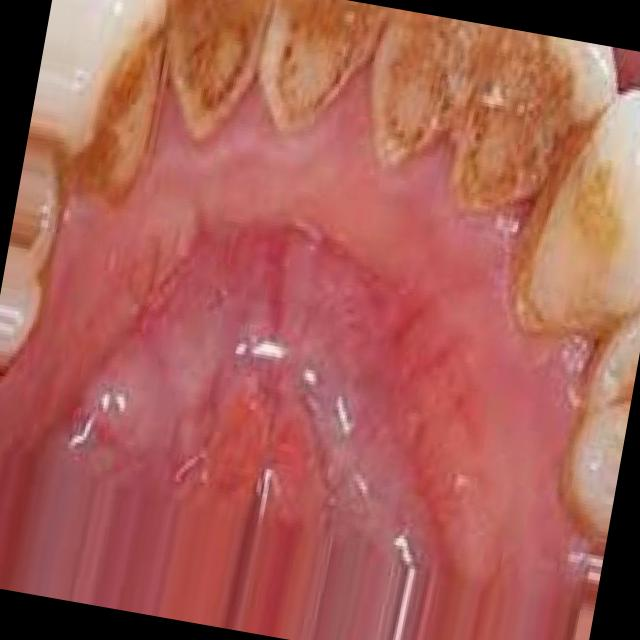calculus: (38, 0, 182, 210), (503, 127, 640, 347), (444, 23, 580, 232), (351, 6, 479, 190), (243, 0, 371, 177), (533, 337, 640, 542), (157, 0, 271, 159)
